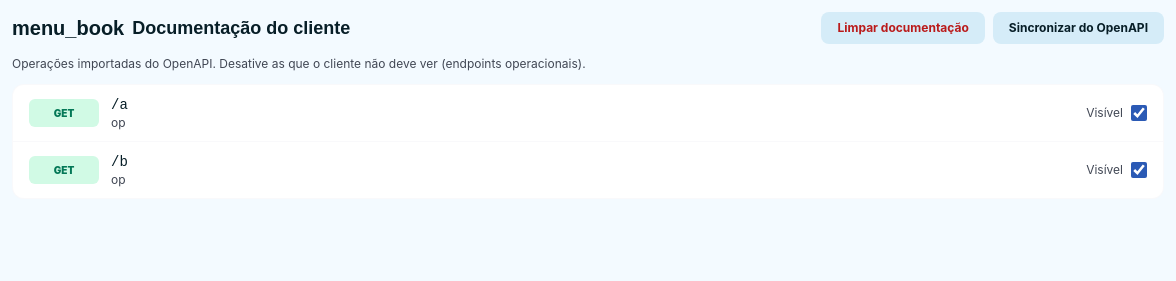
Test: ApiDocsPanel — limpar documentação importada › remove as operacoes apos confirmar e mostra a contagem
Expected: the text "/a" is shown, [111,97,128,113]
Click the button "Limpar documentação" at (903, 28), box [822,12,985,44]
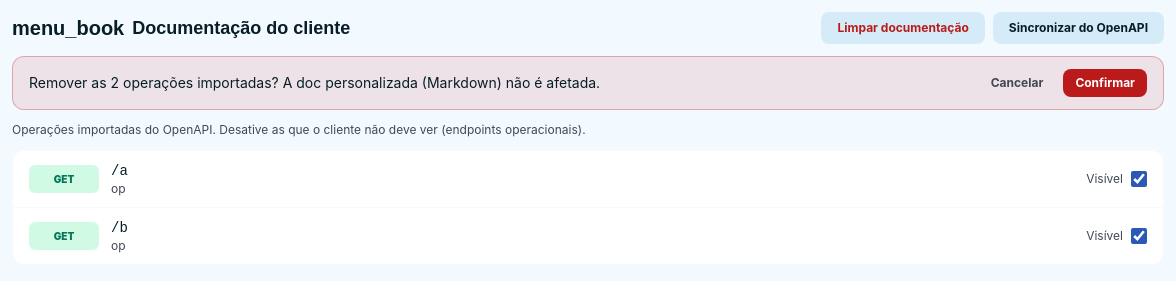
confirmação inline
Click the button "Confirmar" at (1105, 83), box [1063,69,1147,97]
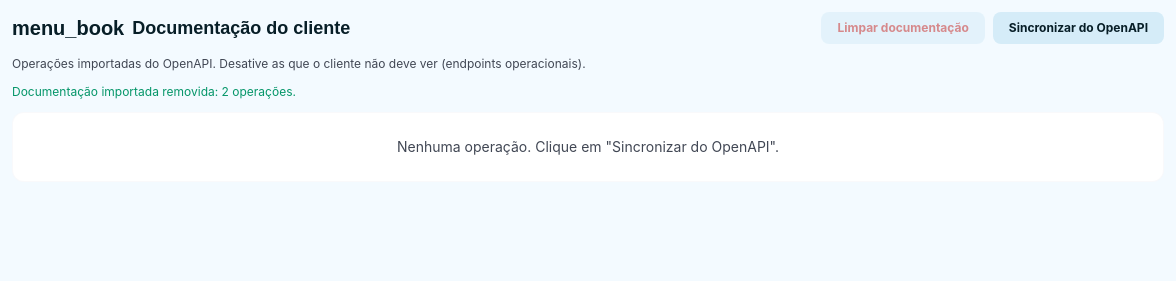
Expected: the text "Documentação importada removida: 2 operações." is shown, [12,84,296,99]
Expected: the text "/a" is gone
